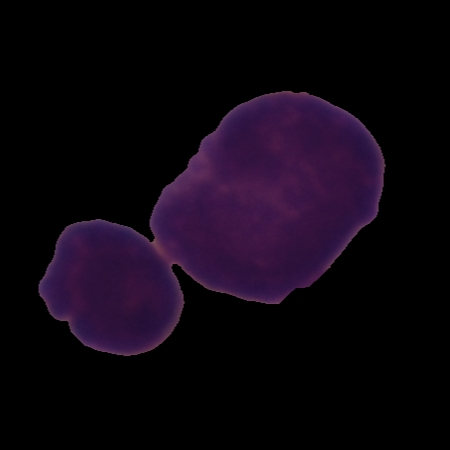HEM: (35, 85, 390, 360)
